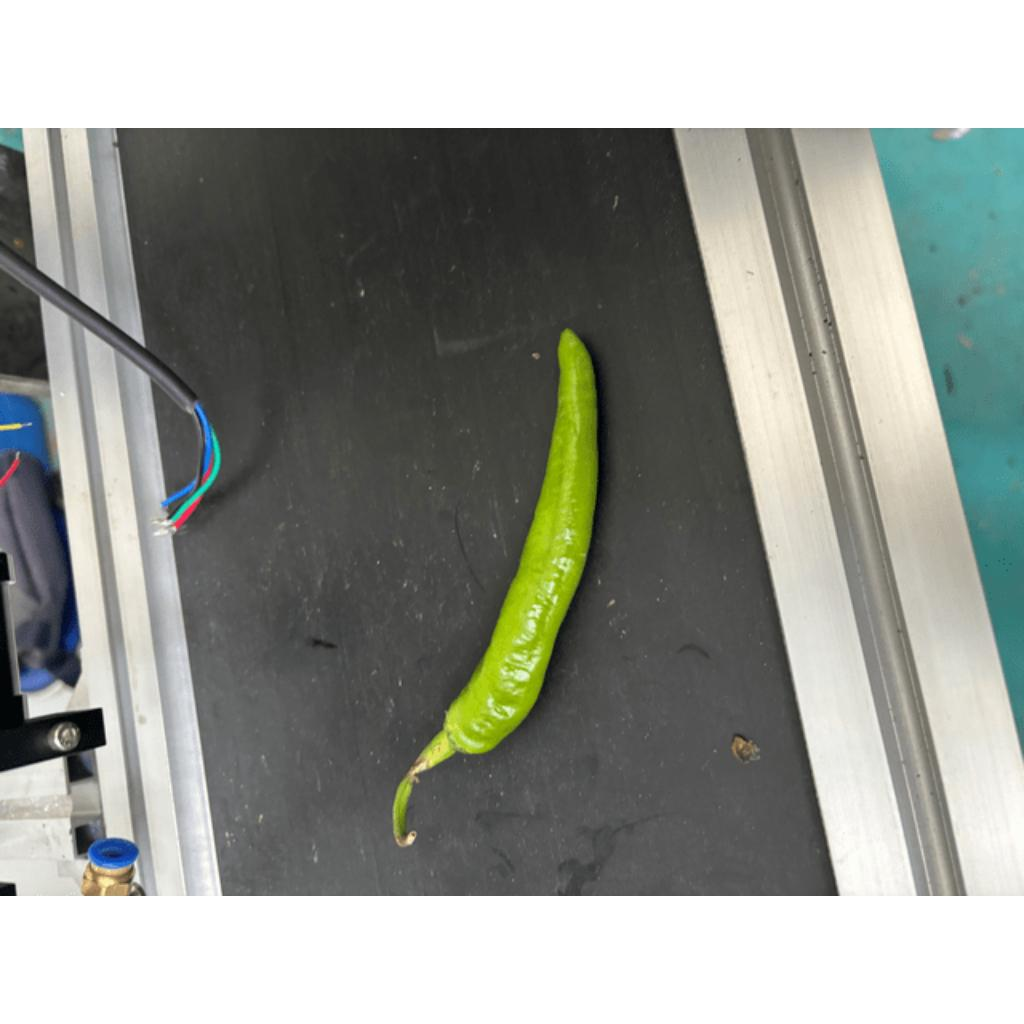chili: (438, 323, 601, 758)
